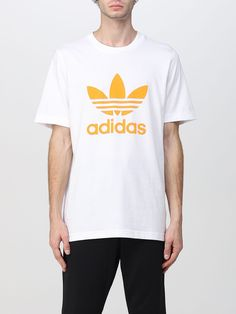adidas Originale: (81, 69, 151, 140)
